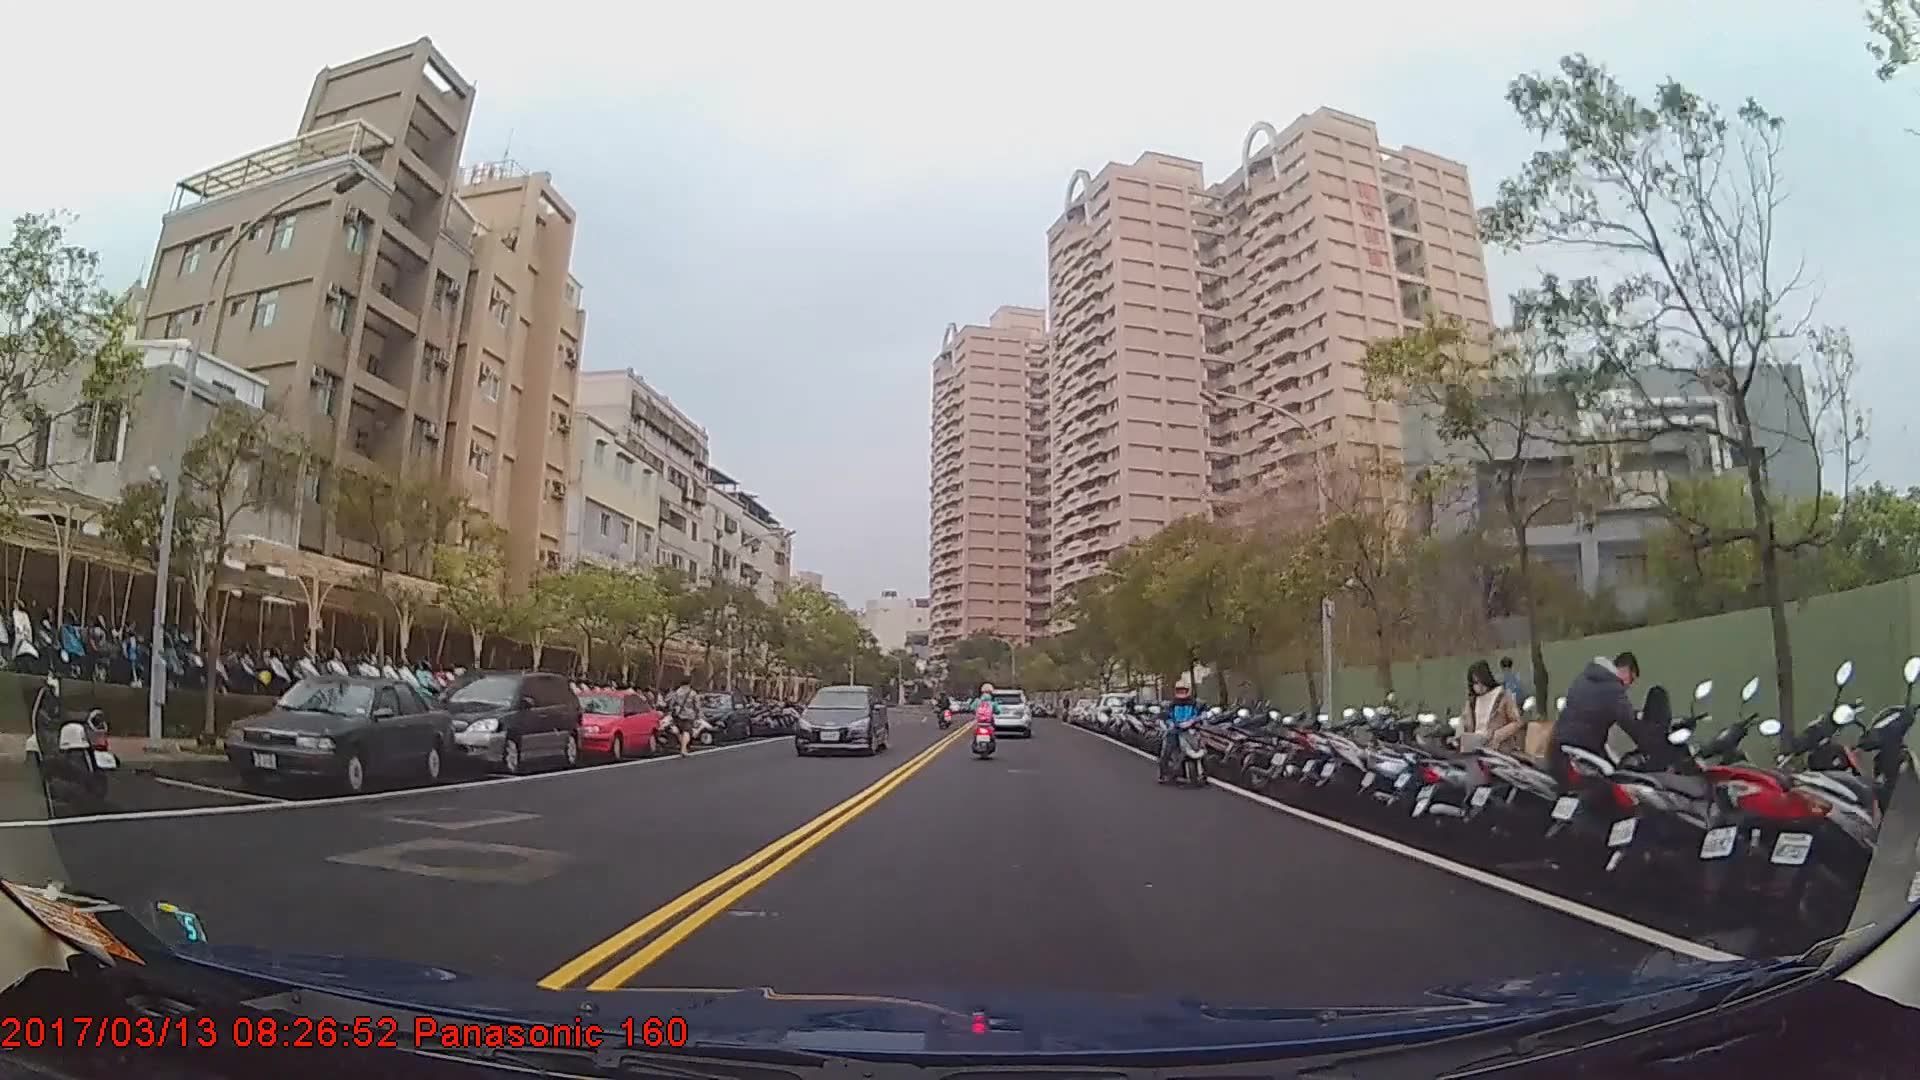pedestrian: (1554, 653, 1668, 860), (1461, 663, 1529, 841), (667, 678, 704, 761)
rider: (1154, 677, 1211, 786), (971, 683, 1002, 755)
vehicle: (222, 671, 452, 789), (419, 666, 581, 772), (555, 686, 661, 758), (795, 684, 891, 756), (979, 683, 1033, 738), (1089, 689, 1139, 733)
